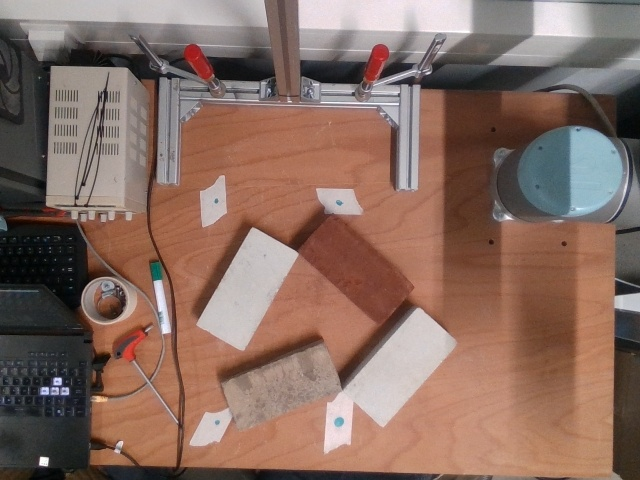brick: (345, 309, 455, 424), (301, 218, 411, 320), (199, 230, 293, 346), (225, 346, 340, 428)
